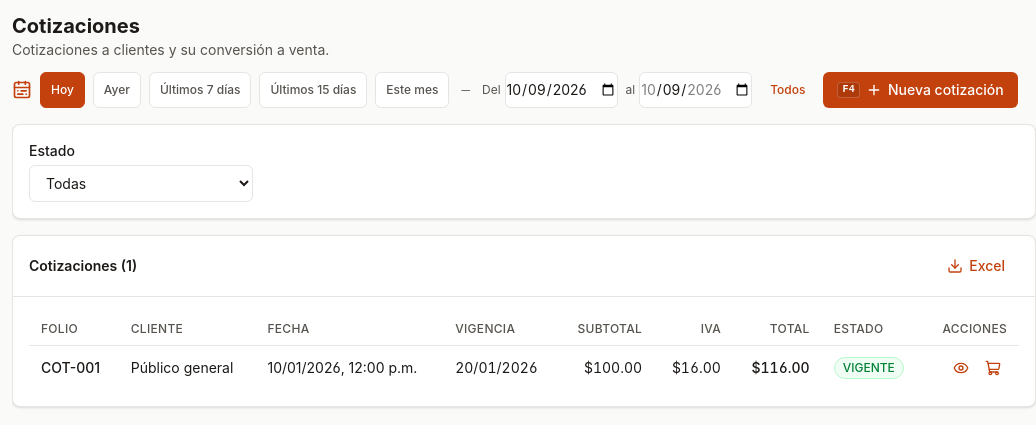
Test case: CotizacionesPage › filtra por estado y muestra Limpiar para quitar el filtro
This screenshot has width=1036, height=425.
Check: the text "COT-001" is shown, box x1=41 y1=359 x2=100 y2=376
Step 1. Select "Vigente" in the dropdown labelled "Estado" → {"x": 141, "y": 184}, box x1=29 y1=165 x2=253 y2=202
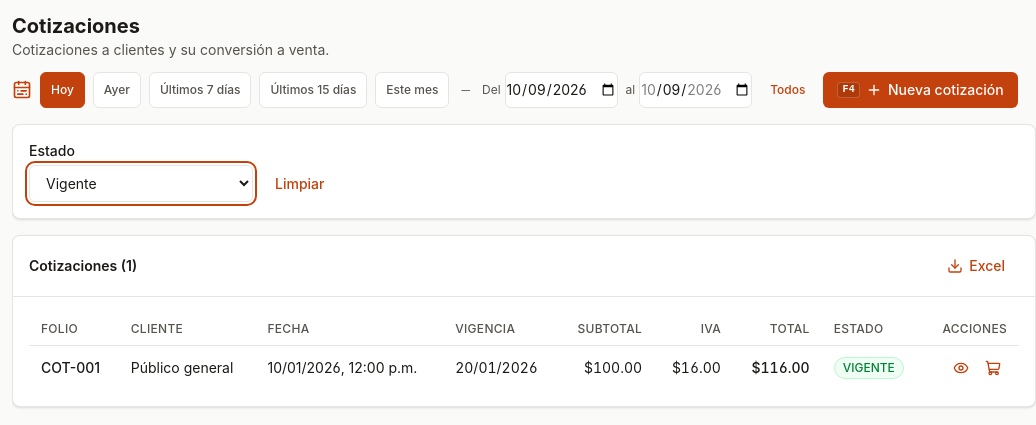
Check: the button "Limpiar" is shown
Step 2. Click the button "Limpiar" → {"x": 300, "y": 184}, box x1=261 y1=166 x2=338 y2=202
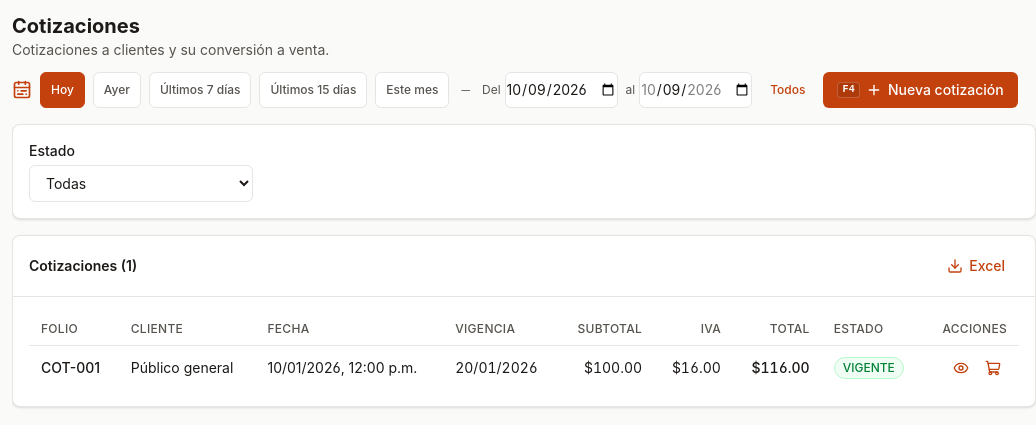
Check: the button "Limpiar" is gone
